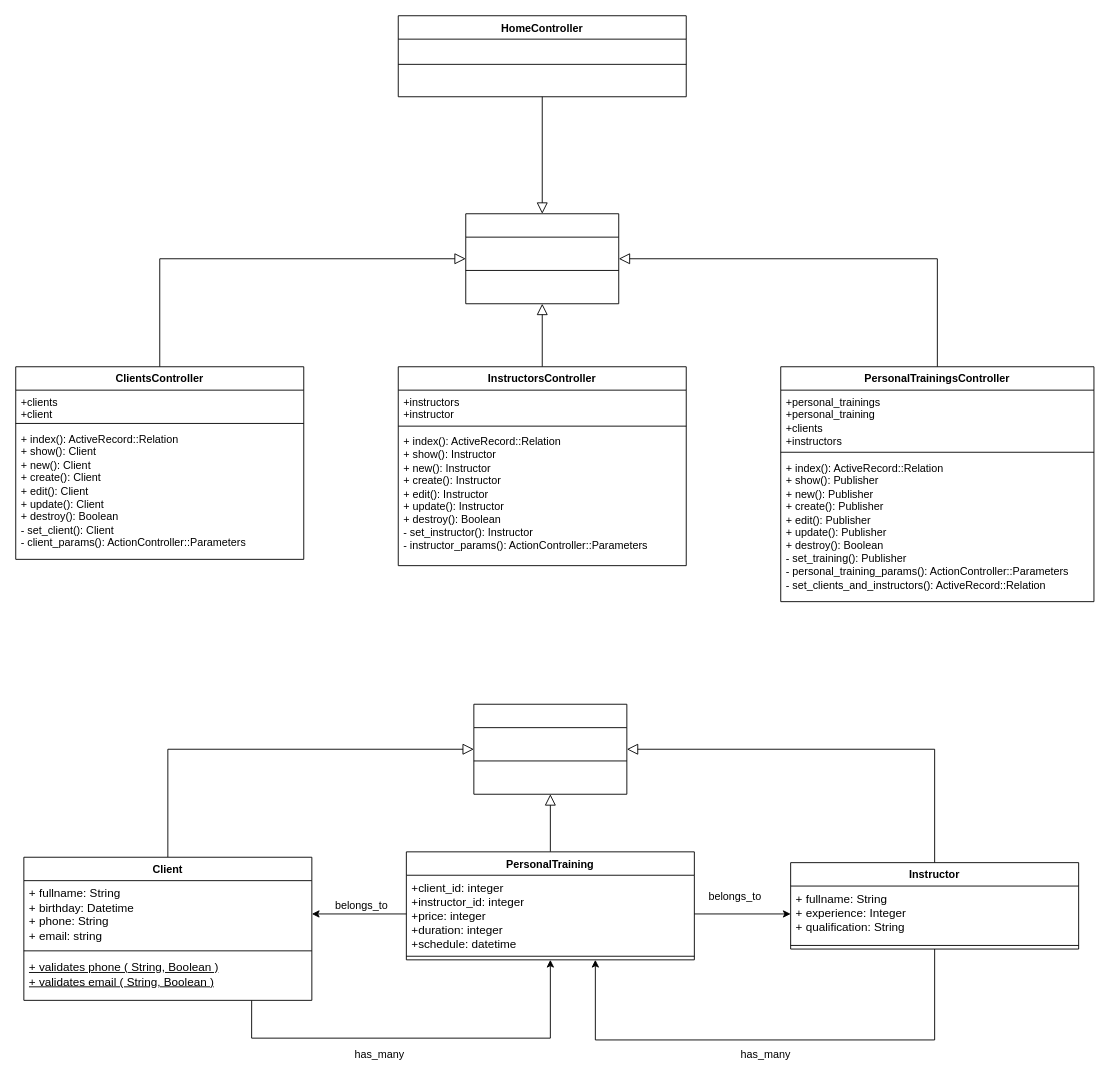
Image size: 1110x1085. Some labels were removed from this diagram. The centre of each missing label's shape, as x and y in pixels:
"ApplicationController" goes at point (542, 258).
"ApplicationRecord" goes at point (550, 748).
